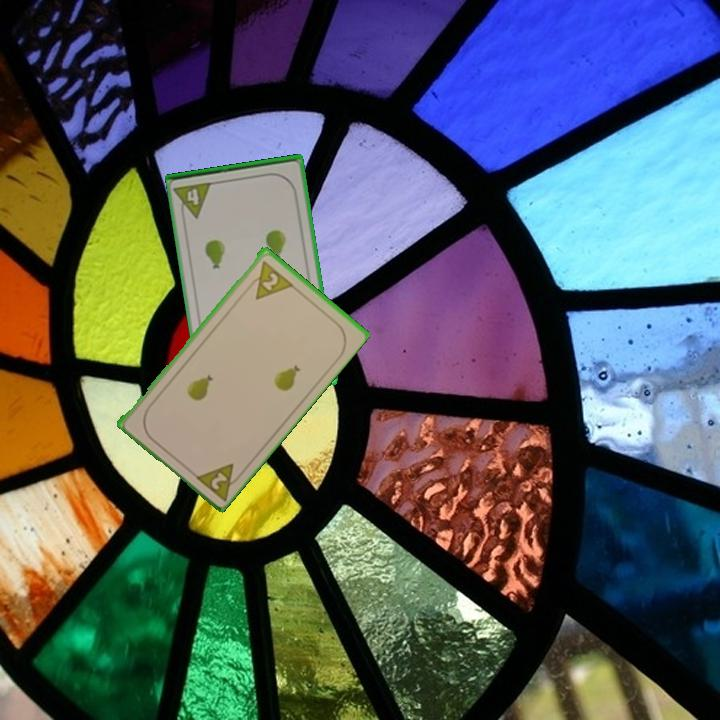2p: (190, 459, 247, 503), (243, 257, 295, 302)
4p: (171, 178, 216, 222)
